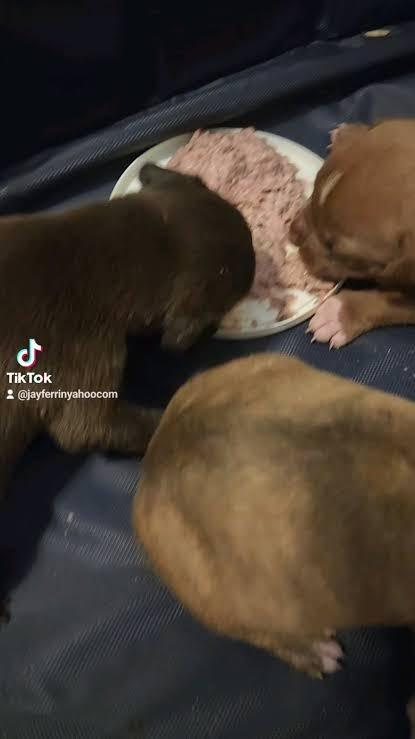puppy-dog: (2, 164, 254, 628), (132, 350, 415, 674), (289, 115, 415, 351)
